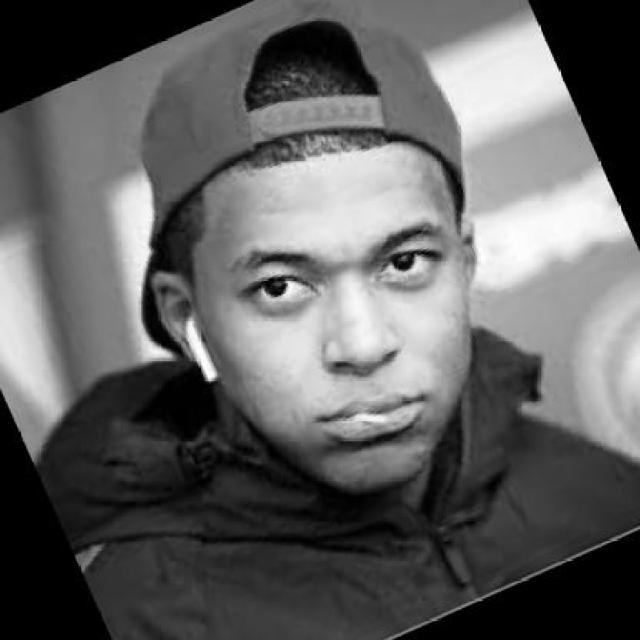earphone: (167, 296, 231, 389)
